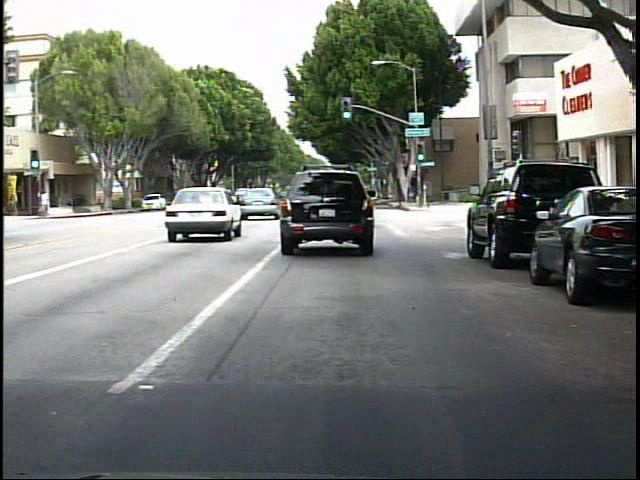person: (43, 187, 54, 217)
